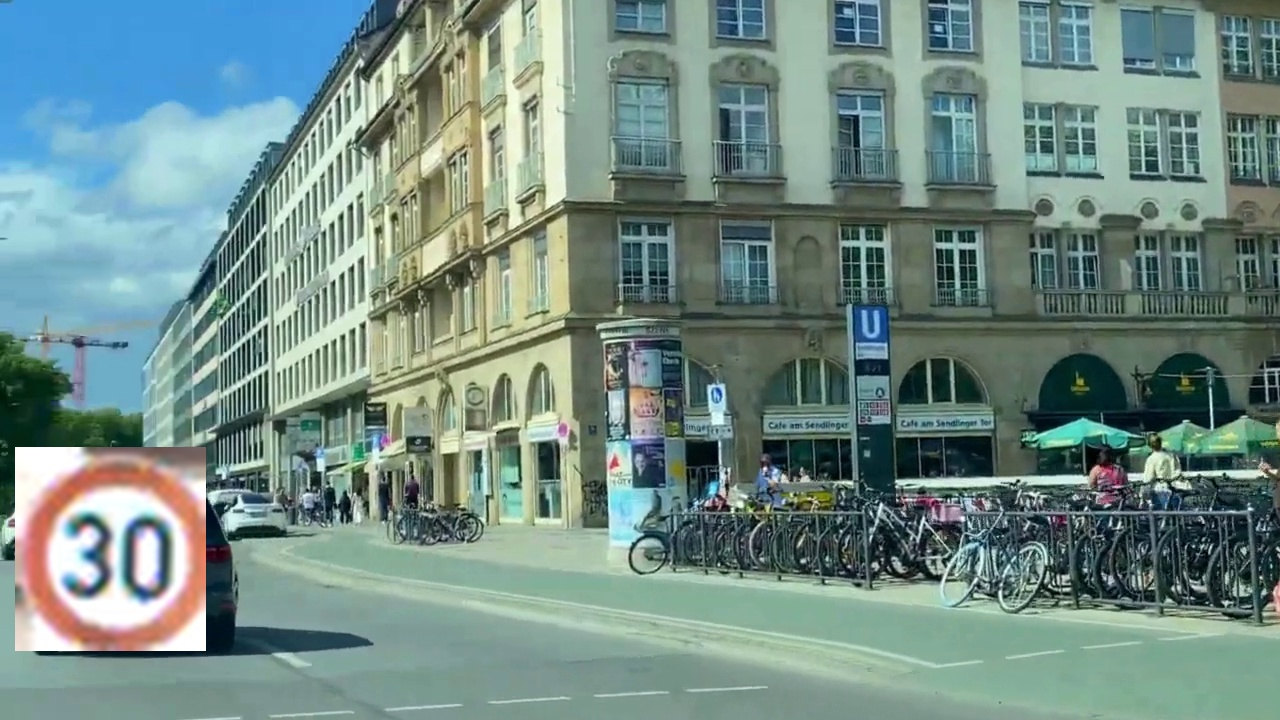Speed 30: (15, 447, 206, 651)
